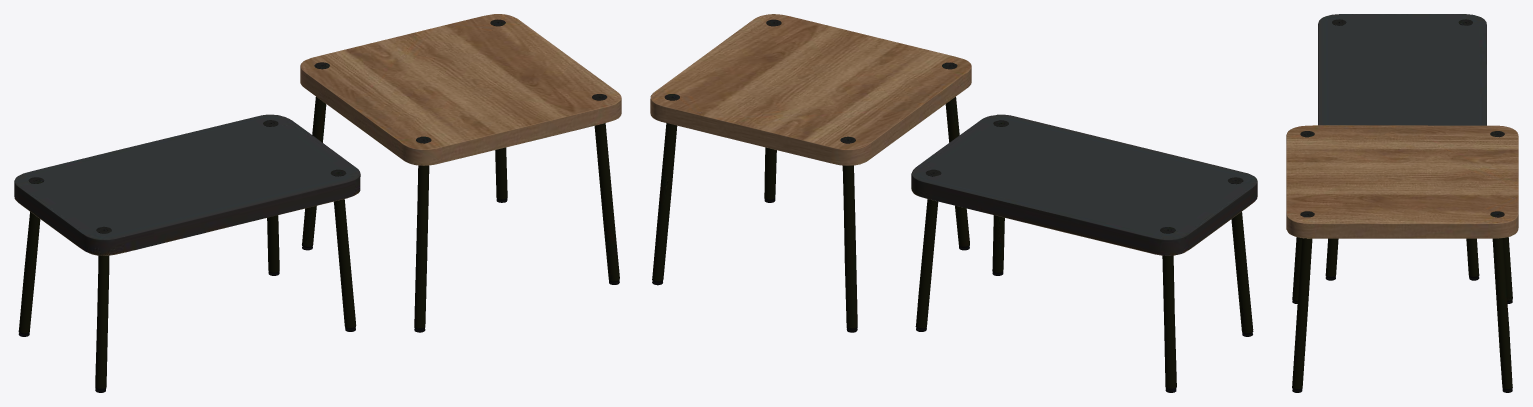
Rendered from 42 - SONHULT Nest of tables, set of 2 - greywalnut effect.glb.
The picture shows the model from 3 angles, left to right: view 1: azimuth 30°, elevation 25°; view 2: azimuth 150°, elevation 25°; view 3: azimuth 270°, elevation 25°; orthographic projection. The views are drawn at different scales.
Visible parts, largest first — view 1: ASY_LPT02_30578556_S01_NV01, ASY_LPT01_30578556_S01_NV01; view 2: ASY_LPT02_30578556_S01_NV01, ASY_LPT01_30578556_S01_NV01; view 3: ASY_LPT02_30578556_S01_NV01, ASY_LPT01_30578556_S01_NV01.
Part boxes in pixels (bbox=[...]): ASY_LPT02_30578556_S01_NV01: bbox=[300, 14, 621, 332]; ASY_LPT01_30578556_S01_NV01: bbox=[14, 114, 360, 392]; ASY_LPT02_30578556_S01_NV01: bbox=[650, 14, 971, 332]; ASY_LPT01_30578556_S01_NV01: bbox=[911, 114, 1257, 392]; ASY_LPT02_30578556_S01_NV01: bbox=[1286, 125, 1518, 392]; ASY_LPT01_30578556_S01_NV01: bbox=[1318, 14, 1486, 280].
Bounding box in the file's own units: 1.33 × 0.4512 × 0.5504.
Materials: 2 (2 with a texture image).
